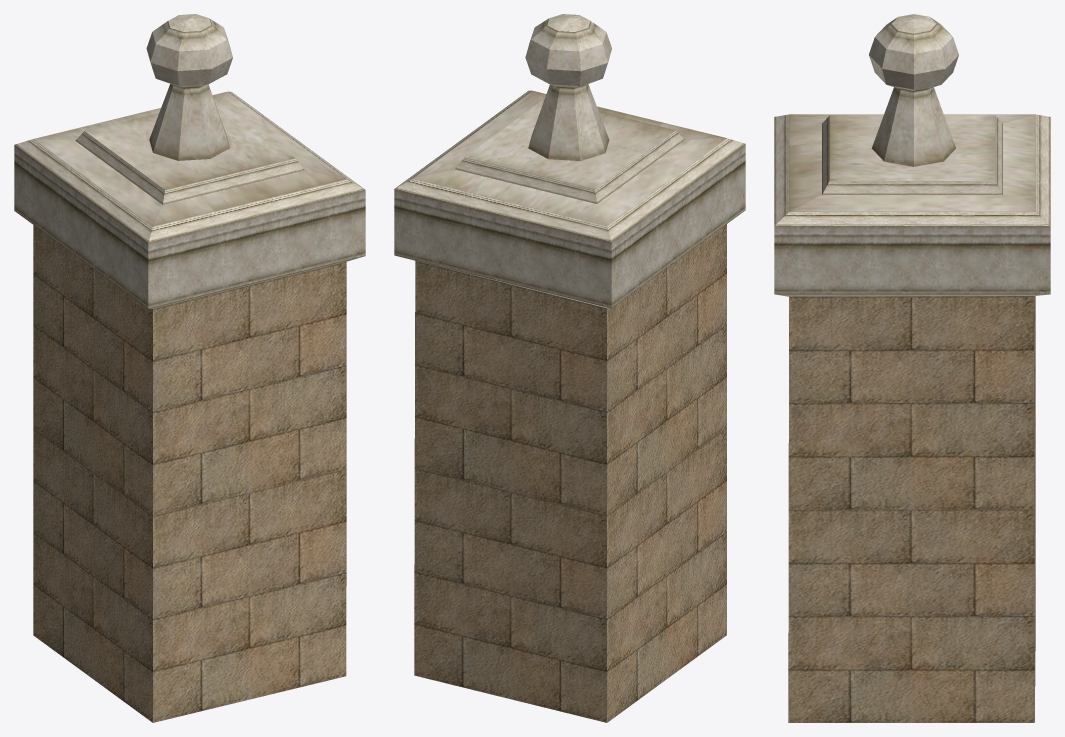
File: thm_nboo_imprv_pillar_s02_l0.fbx
3 renders of one model, left to right at view 1: azimuth 30°, elevation 25°; view 2: azimuth 150°, elevation 25°; view 3: azimuth 270°, elevation 25°, orthographic. The views are drawn at different scales.
Parts seen in each view (by area): view 1: mesh_node; view 2: mesh_node; view 3: mesh_node.
Part boxes in pixels (x1,y1,x2,y2): mesh_node: [14, 14, 365, 722]; mesh_node: [394, 14, 745, 722]; mesh_node: [774, 14, 1050, 722].
Size of the model in its own units: 2.28 by 6.38 by 2.43.
1 material, 1 textured.
